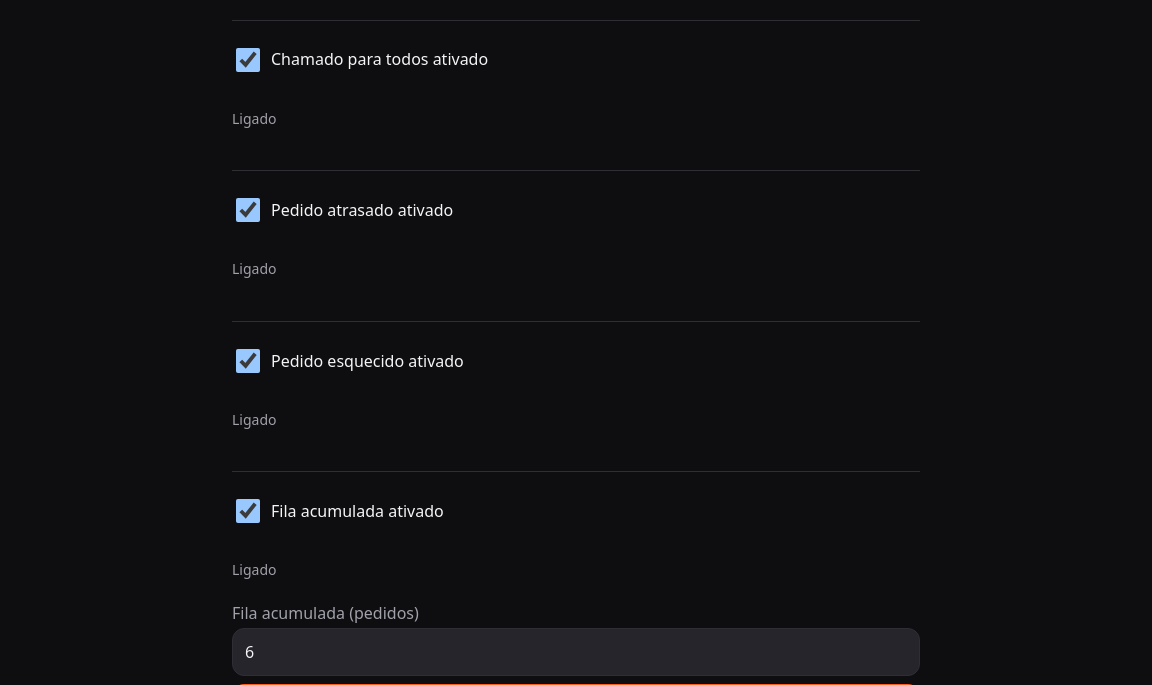
Test: Limites dos alertas › desligar Pedido esquecido salva
(page scrolled)
Click the switch labelled "Pedido esquecido ativado" at (248, 361), box [236,337,260,385]
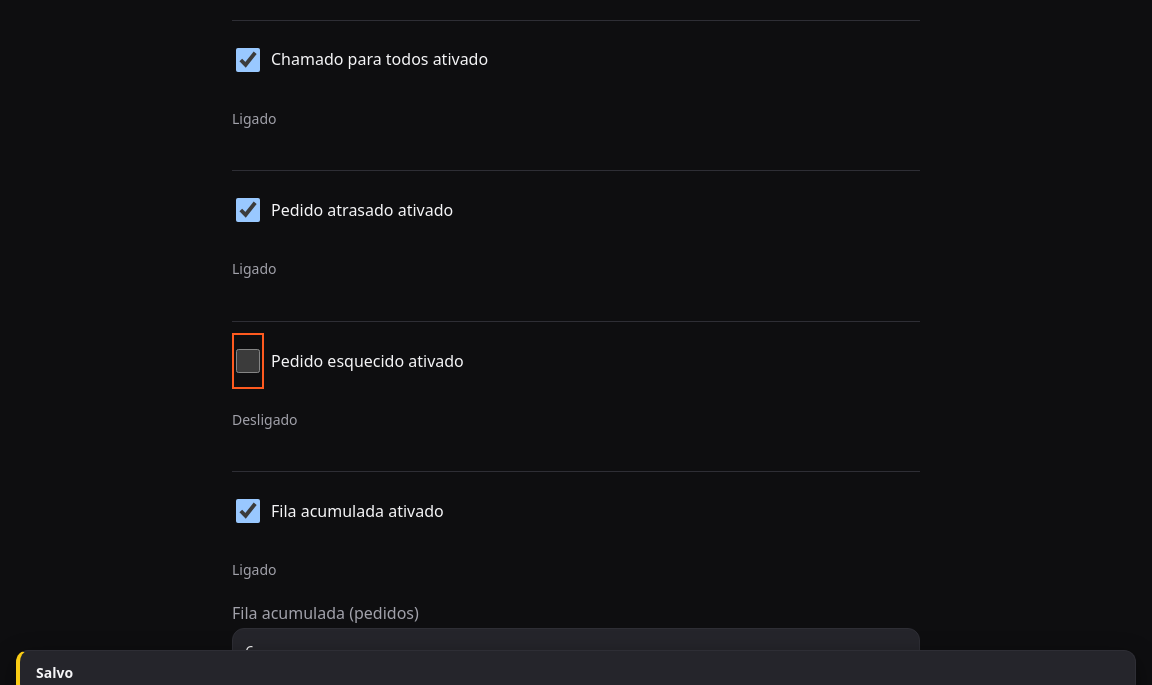
Expected: the message reads "Salvo", [36,663,73,682]
